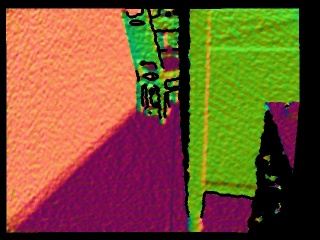station: (140, 85, 172, 116)
